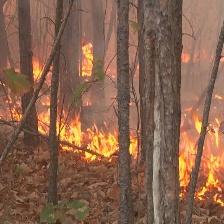fire: (13, 101, 138, 162), (177, 110, 224, 212), (11, 62, 53, 81)
